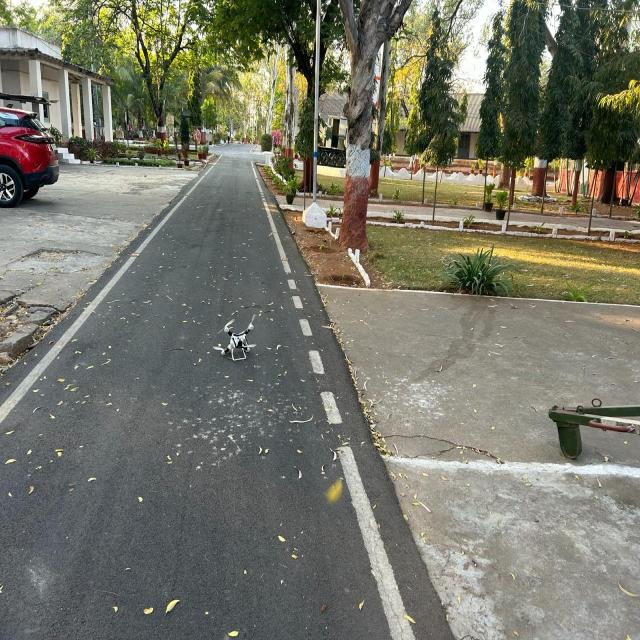drone: (211, 287, 285, 407)
